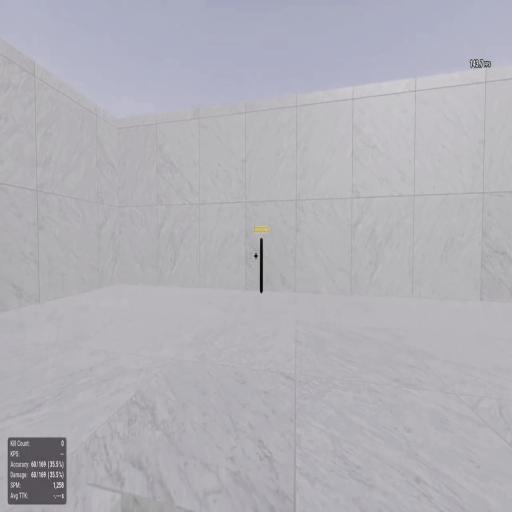Crosshair: (254, 252, 258, 260)
Target: (260, 240, 263, 292)
